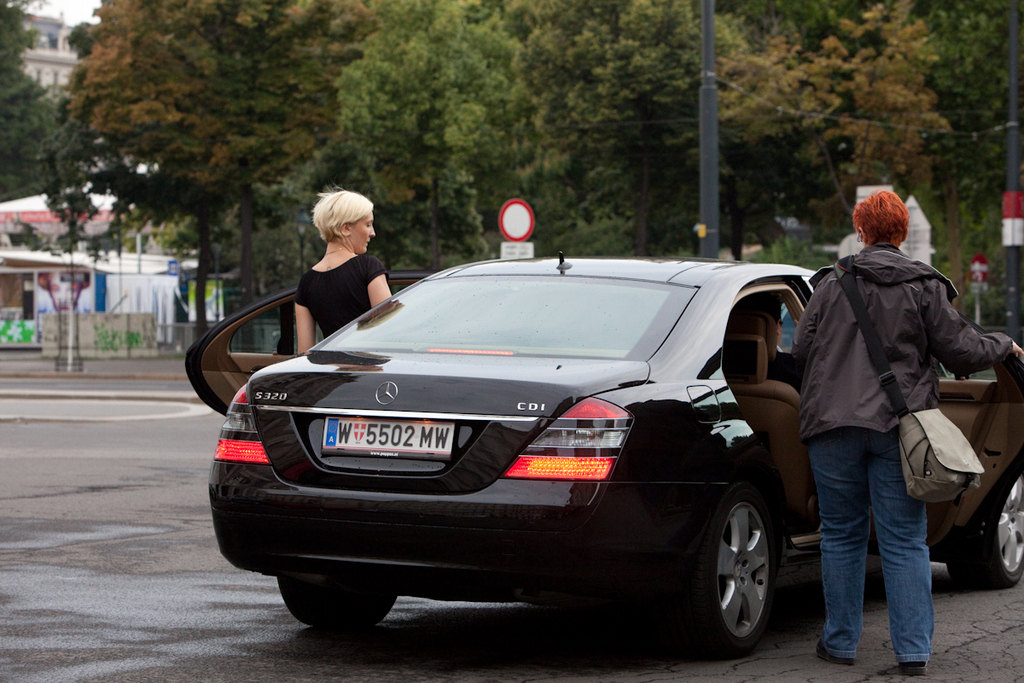Car: (182, 249, 1023, 658)
